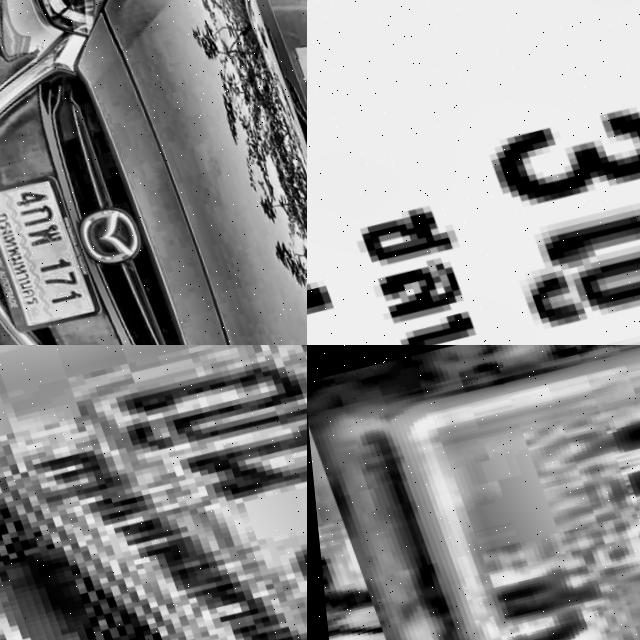license-plate: (307, 0, 640, 345), (0, 345, 307, 640), (338, 345, 640, 640), (0, 168, 99, 336)
